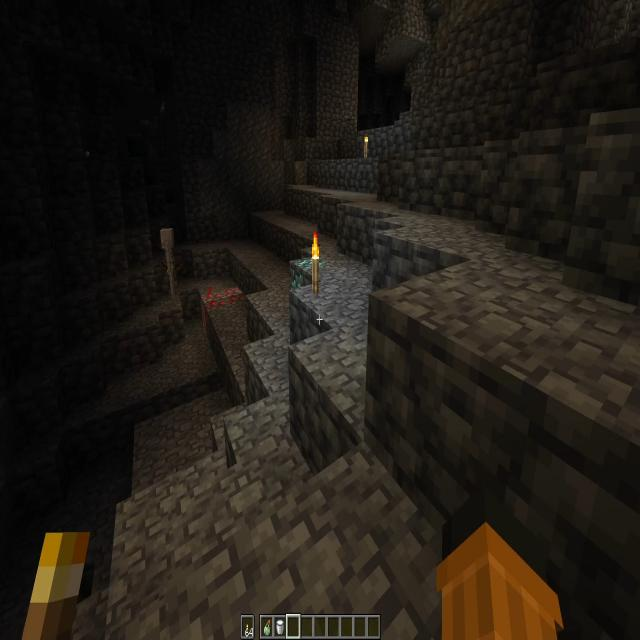Skeleton: (163, 229, 177, 295)
